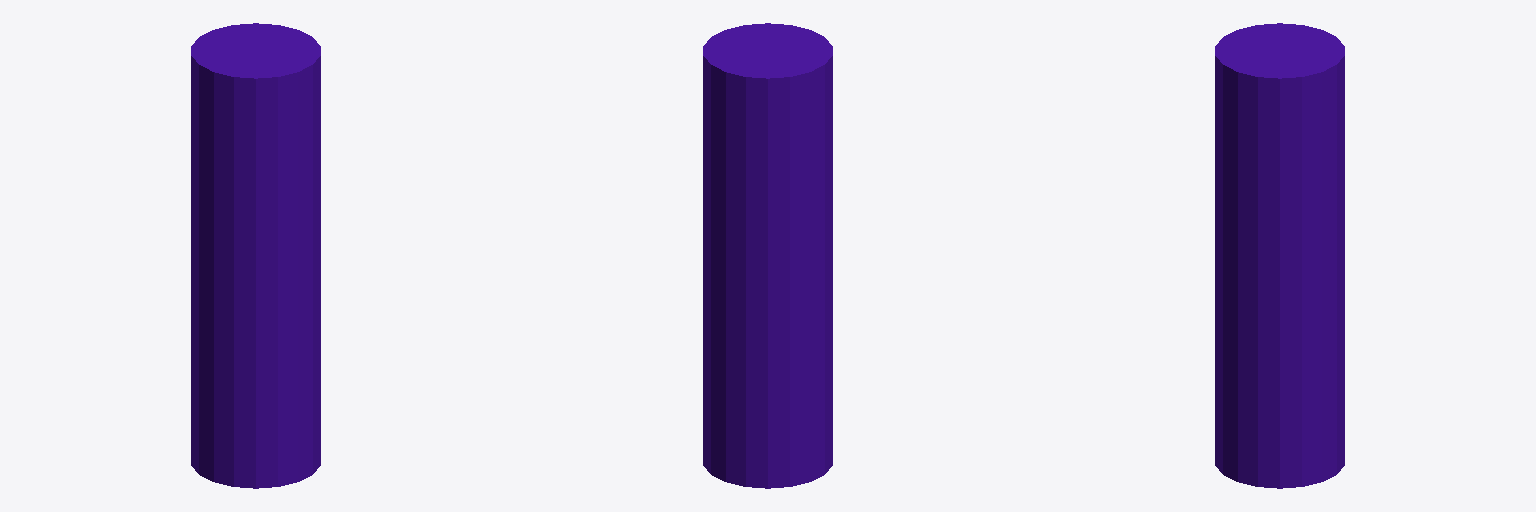
Rendered from pole.obj.
The picture shows the model from 3 angles: view 1: azimuth 30°, elevation 25°; view 2: azimuth 150°, elevation 25°; view 3: azimuth 270°, elevation 25°; orthographic projection.
Visible parts, largest first — view 1: Cylinder001; view 2: Cylinder001; view 3: Cylinder001.
Part boxes in pixels (bbox=[...]): Cylinder001: bbox=[191, 23, 320, 488]; Cylinder001: bbox=[703, 23, 832, 488]; Cylinder001: bbox=[1215, 23, 1344, 488].
Size of the model in its own units: 17.42 by 60.12 by 17.16.